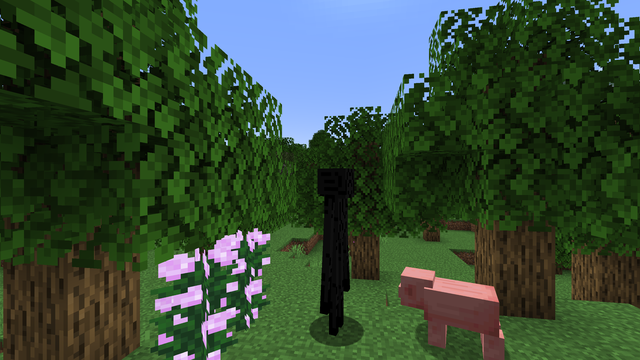cochons: (423, 274, 504, 358)
endermens: (316, 162, 353, 340)
